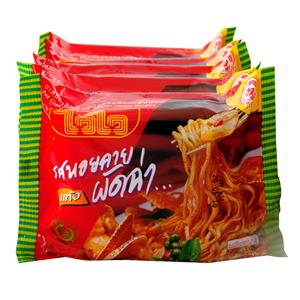Snack: (12, 59, 291, 266)
